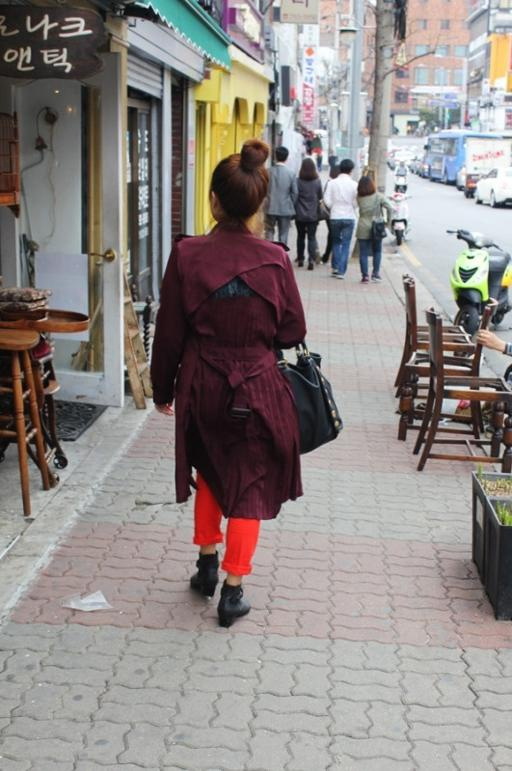non-vehicle: (445, 227, 512, 334), (388, 192, 411, 244), (395, 173, 407, 192)
